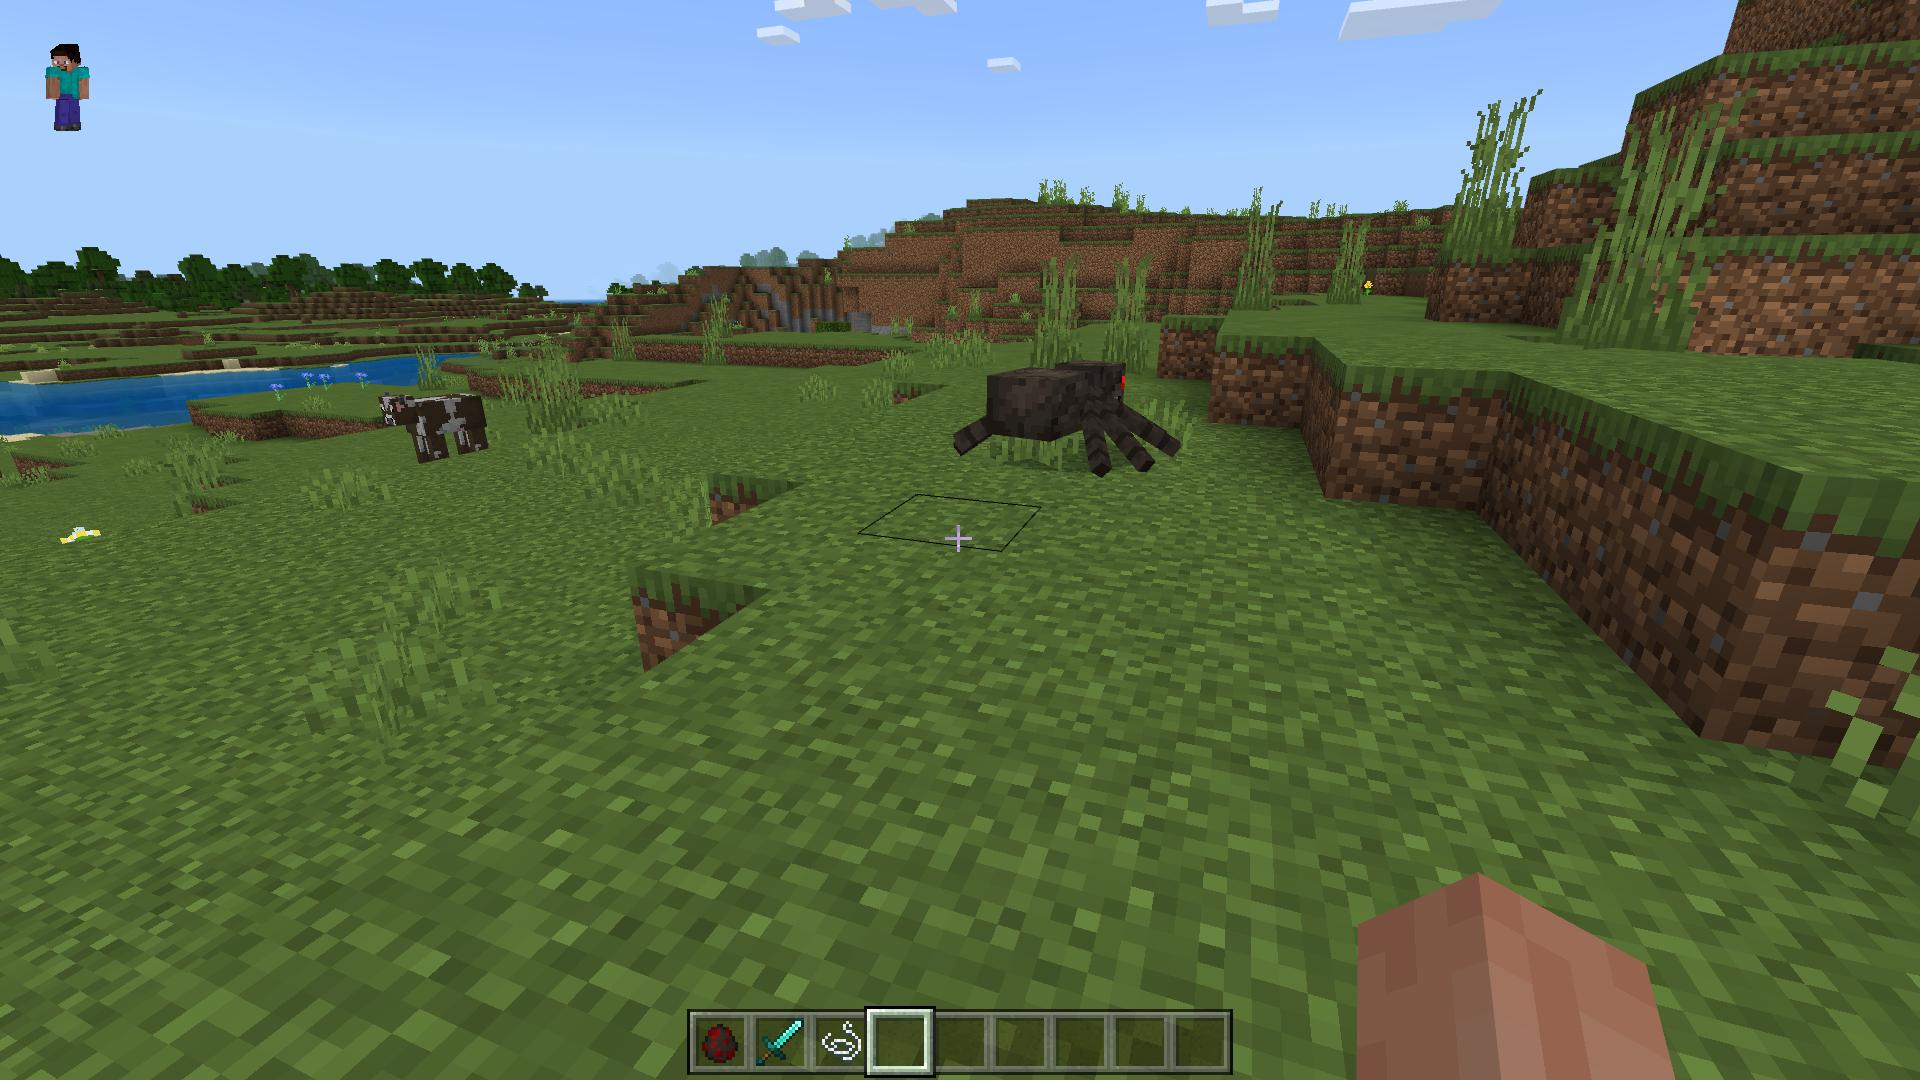spider: (953, 355, 1180, 487)
